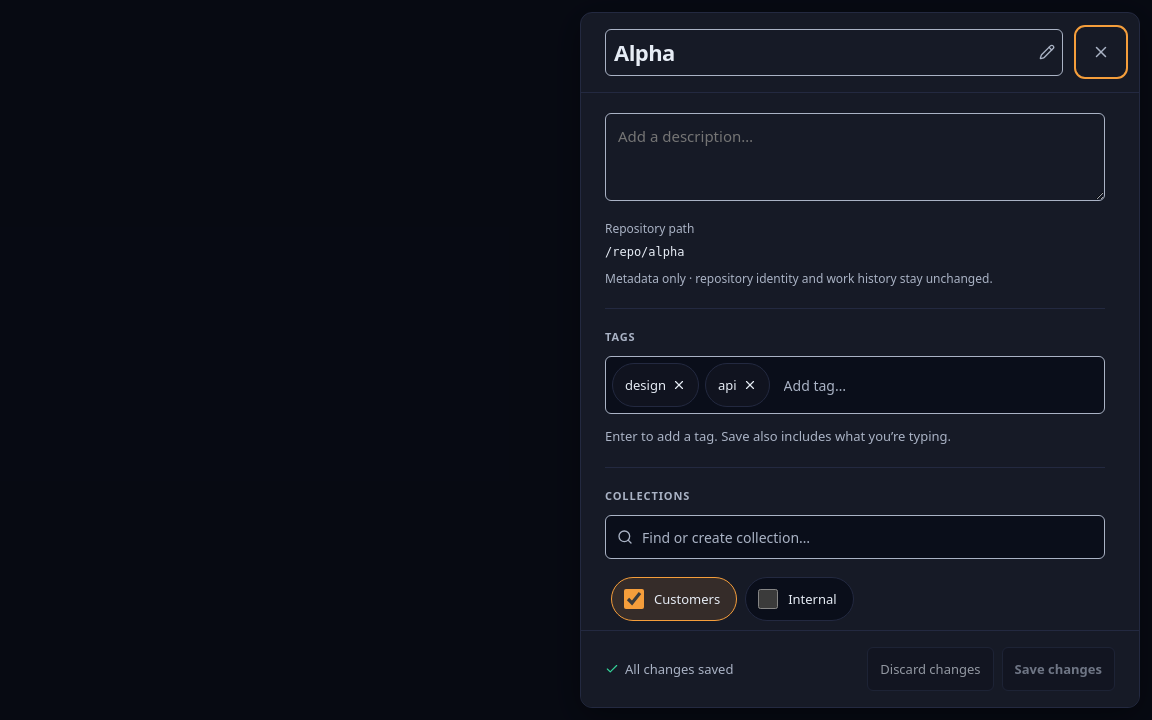
Scenario: Details sheet structure › reports save state in the footer and holds organization actions until edits are saved or discarded
expect the message "All changes saved" is shown: met, box [605,660,733,678]
expect the text "Save or discard edits" is not shown: met
Replace the text in the field named "Display name" with "Renamed" at (834, 52), box [605,29,1063,76]
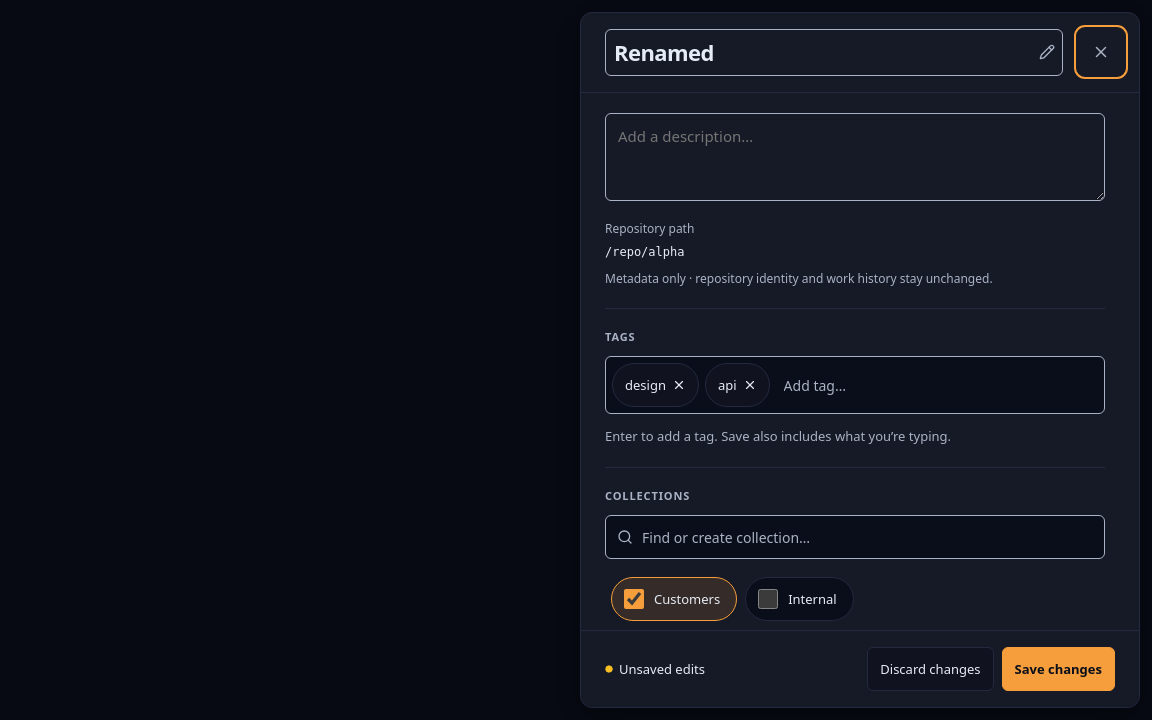
expect the message "Unsaved edits" is shown: met, box [605,660,705,678]
Click the button "Discard changes" at (930, 669), box [867,647,994,691]
(page scrolled)
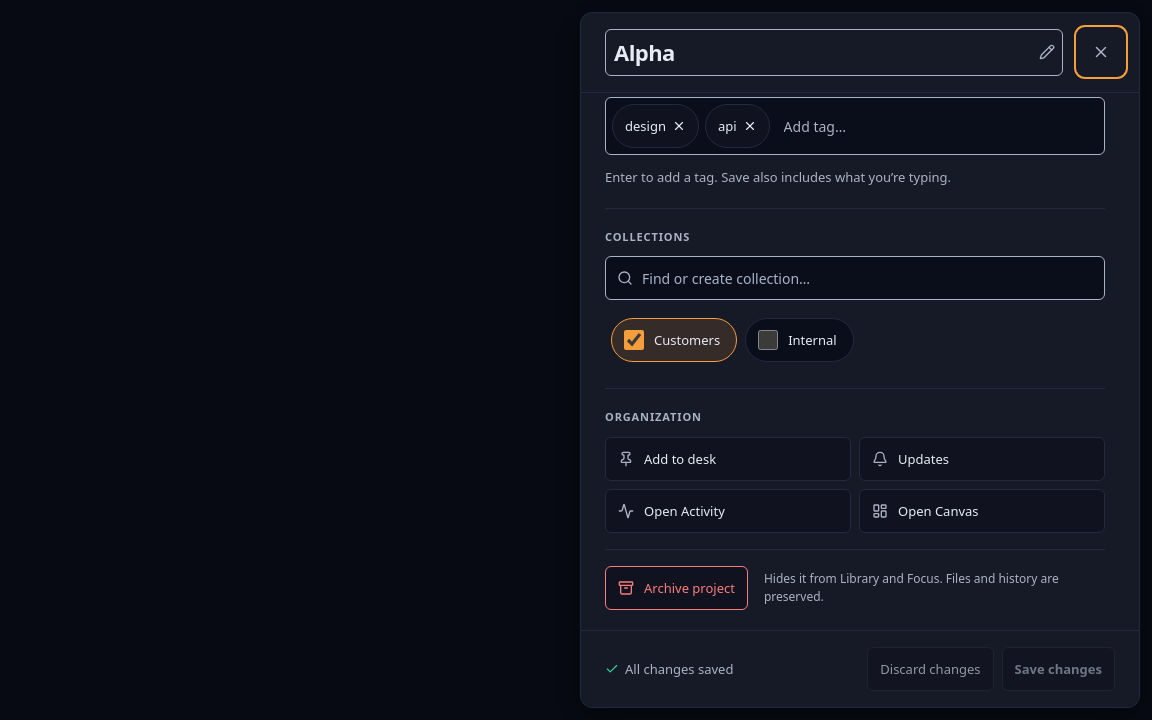
expect the message "All changes saved" is shown: met, box [605,660,733,678]
expect the button "Archive project" is enabled: met, box [605,566,748,610]
